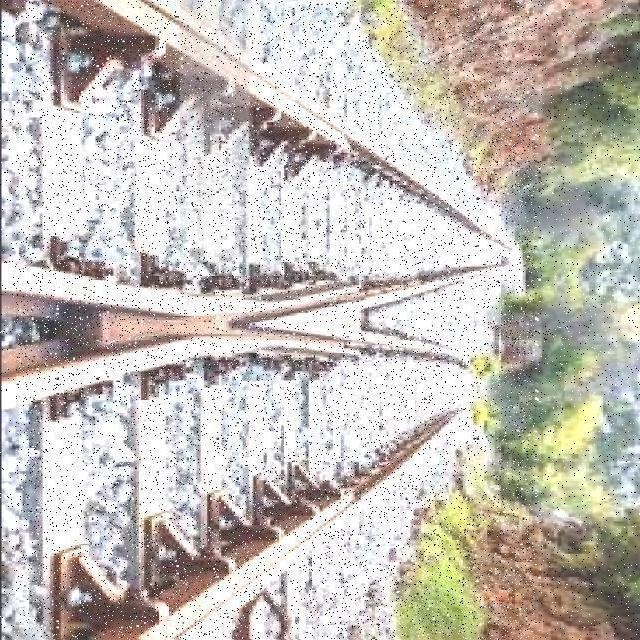rail: (17, 2, 537, 640)
